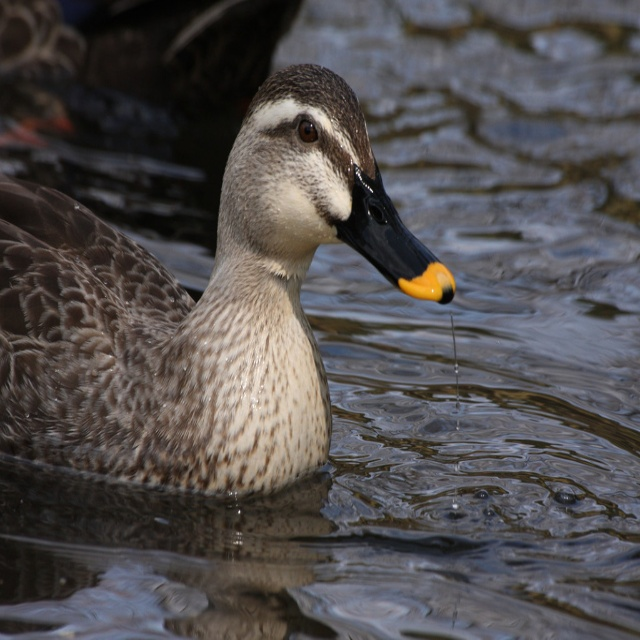Duck: (0, 63, 451, 491)
